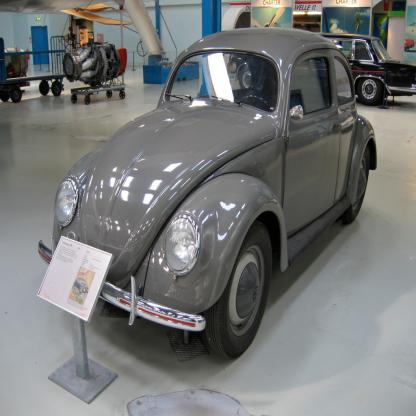Car: (38, 27, 377, 360), (231, 36, 415, 108)
